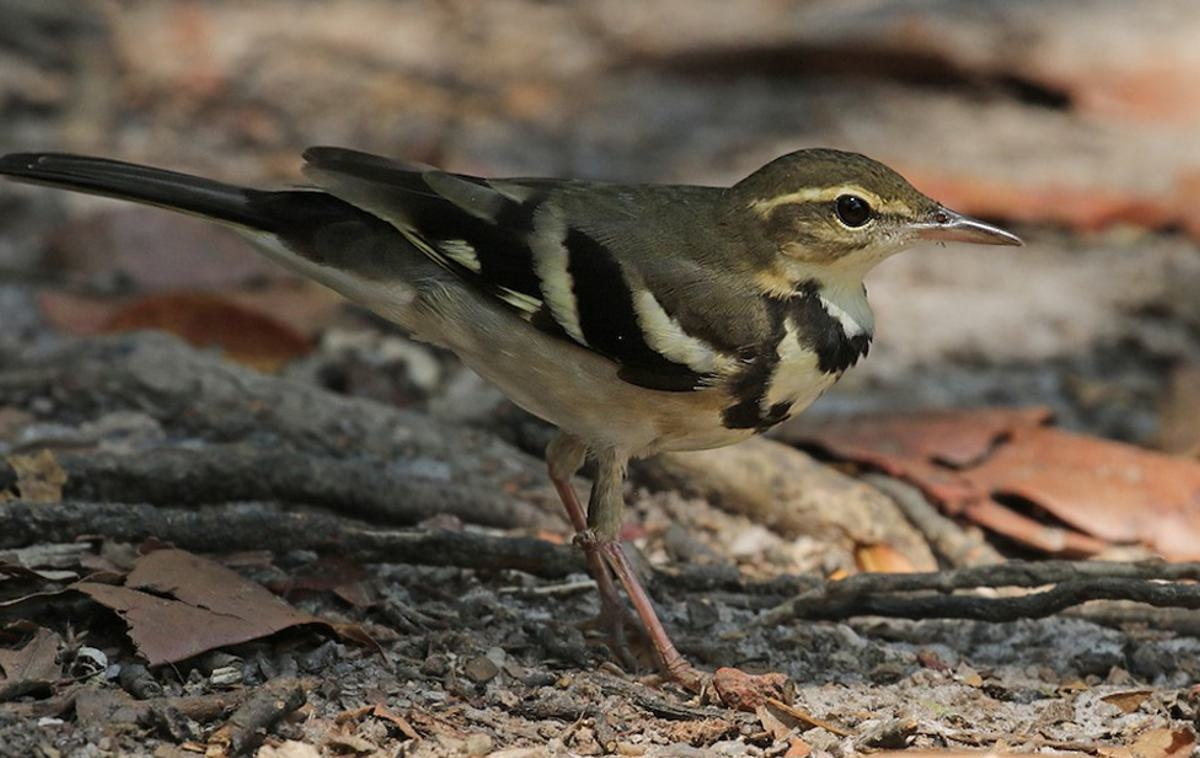wagtail: (298, 136, 1058, 534)
